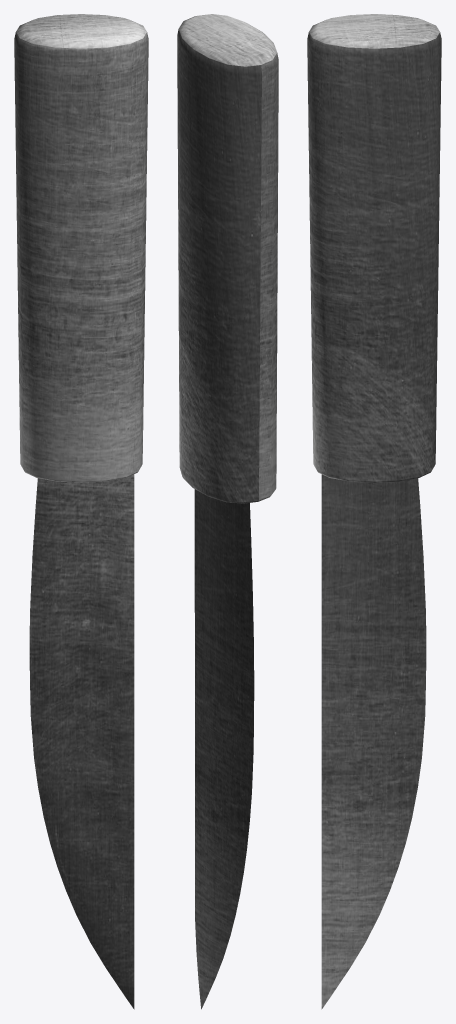
3 views of the same model, side by side, from view 1: azimuth 90°, elevation 25°; view 2: azimuth 210°, elevation 25°; view 3: azimuth 270°, elevation 25° (orthographic).
Size of the model in its own units: 0.0758 by 1 by 0.1242.
